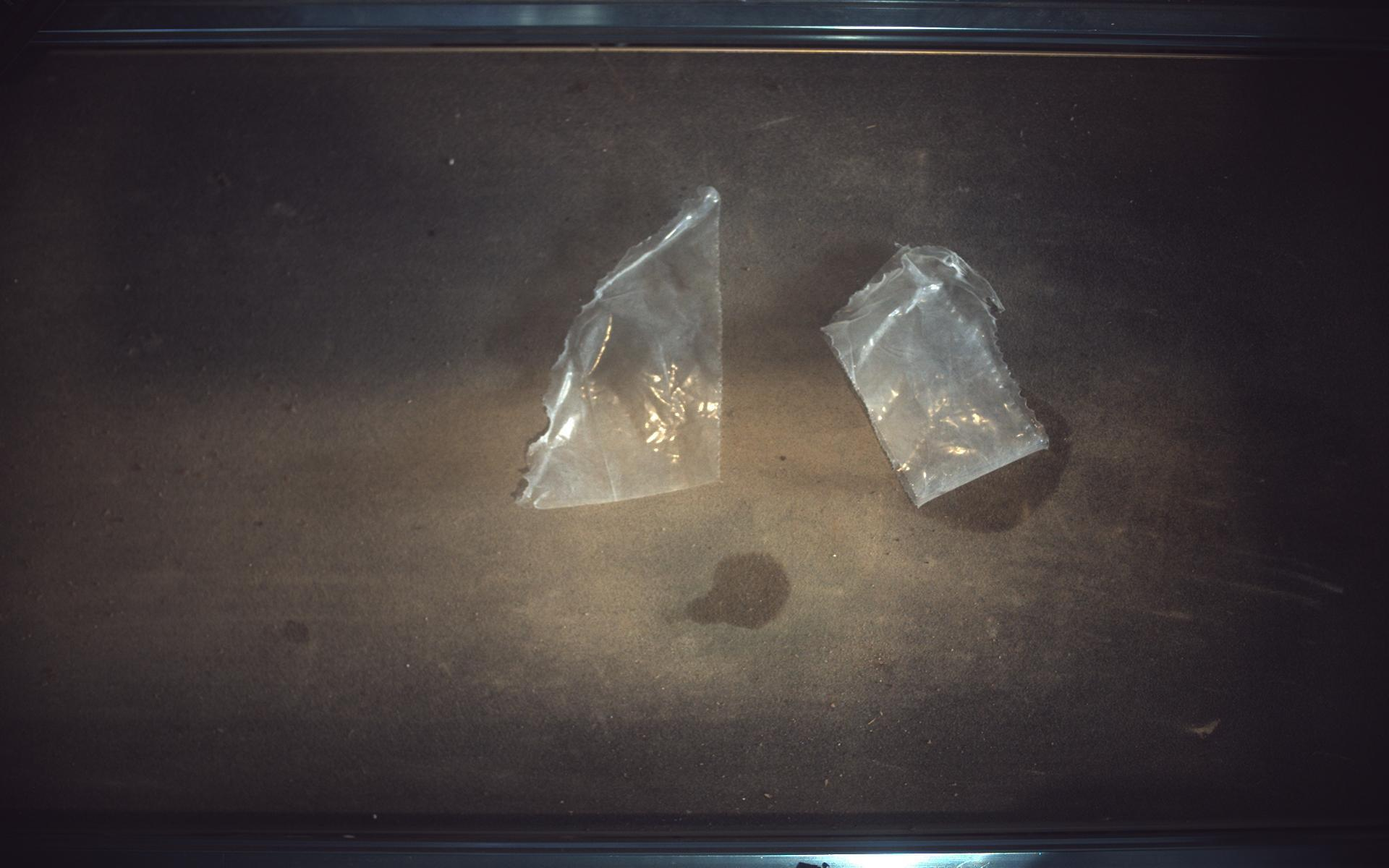general_w: (518, 187, 723, 509), (823, 245, 1051, 506)
